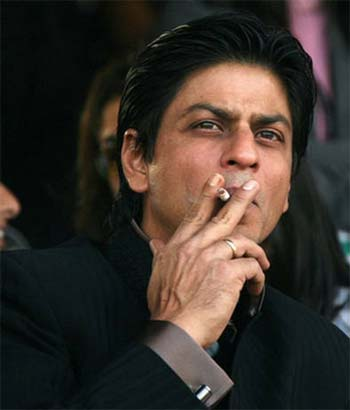cigarette: (213, 182, 233, 208)
